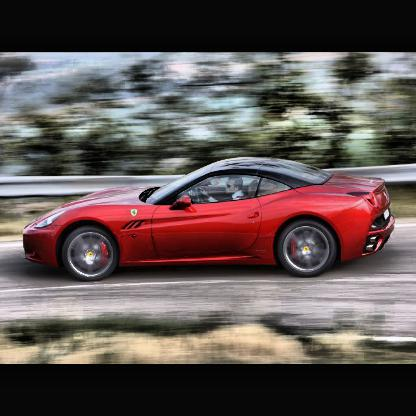Ferrari California Convertible 2012: (25, 157, 398, 283)
